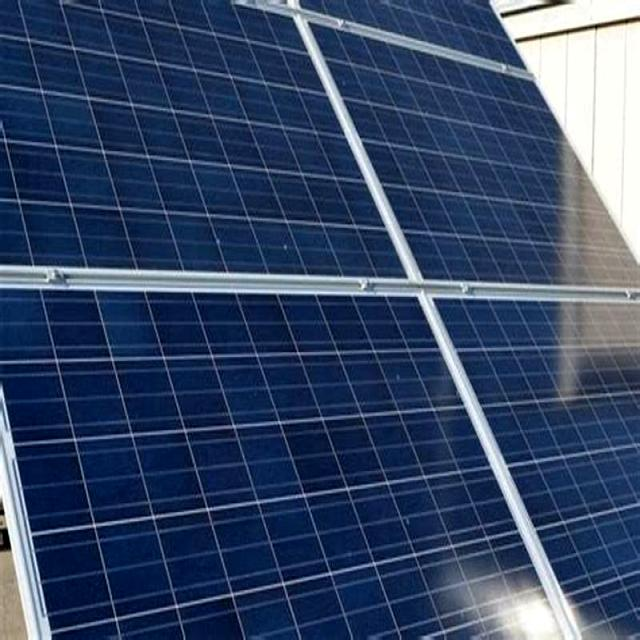crack: (0, 266, 640, 640), (0, 6, 429, 350), (296, 6, 640, 360), (411, 258, 640, 636)
